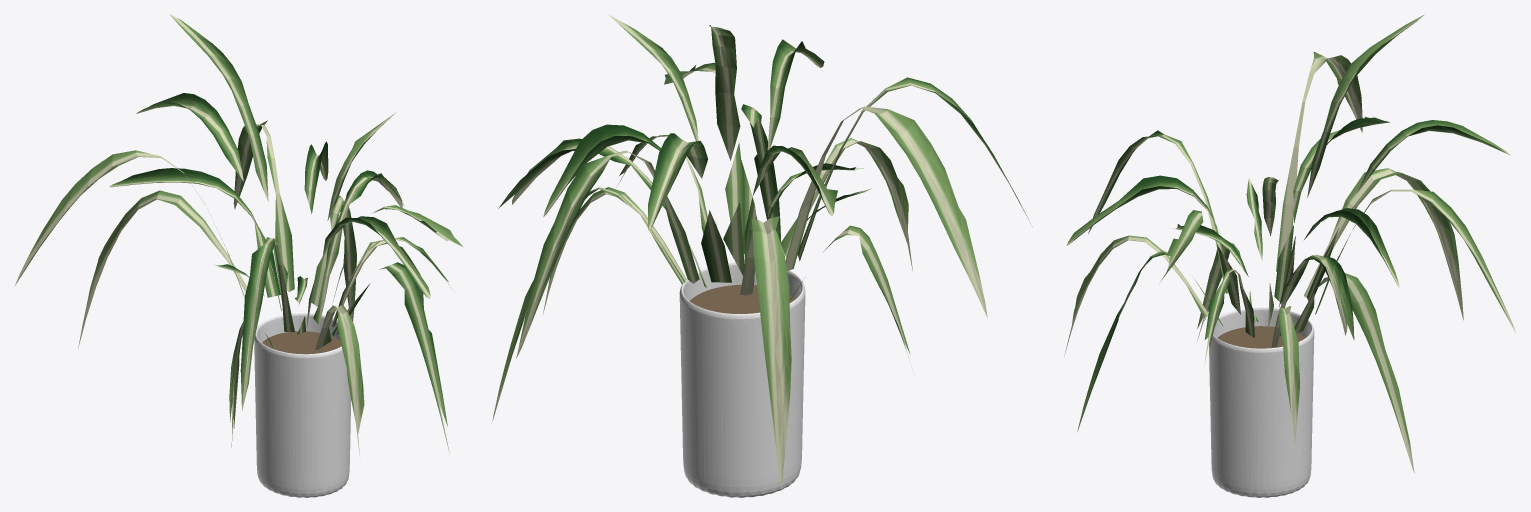
Rendered from sh-bsby-spider-plant.glb.
3 renders of one model, left to right at view 1: azimuth 30°, elevation 25°; view 2: azimuth 150°, elevation 25°; view 3: azimuth 270°, elevation 25°, orthographic. The views are drawn at different scales.
Parts seen in each view (by area): view 1: Plane.020, Circle, Circle.001; view 2: Plane.020, Circle, Circle.001; view 3: Plane.020, Circle, Circle.001.
Boxes of the visible parts, x1,y1,x2,y2 form: Plane.020: (14, 14, 462, 458); Circle: (254, 313, 351, 497); Circle.001: (262, 331, 341, 354); Plane.020: (492, 14, 1032, 489); Circle: (679, 262, 805, 497); Circle.001: (689, 284, 794, 313); Plane.020: (1064, 14, 1515, 473); Circle: (1209, 307, 1314, 497); Circle.001: (1217, 326, 1305, 348).
Bounding box in the file's own units: 0.9272 × 0.9669 × 0.9053.
Materials: 3 (1 with a texture image).
